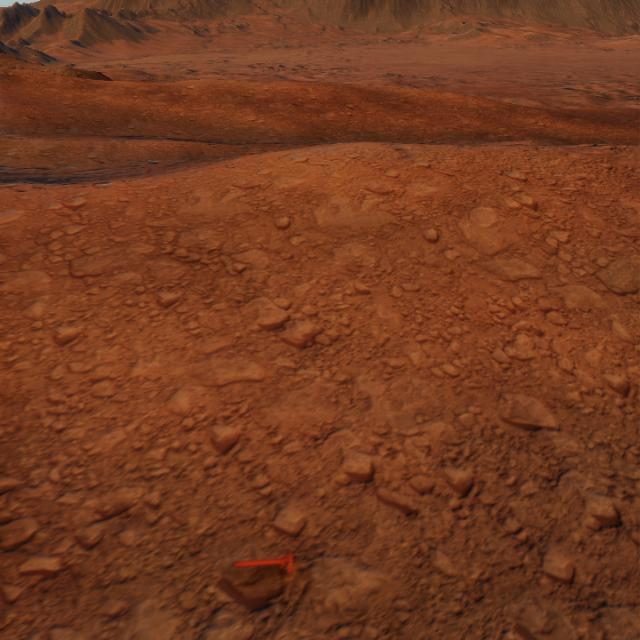newhammer: (235, 548, 293, 574)
